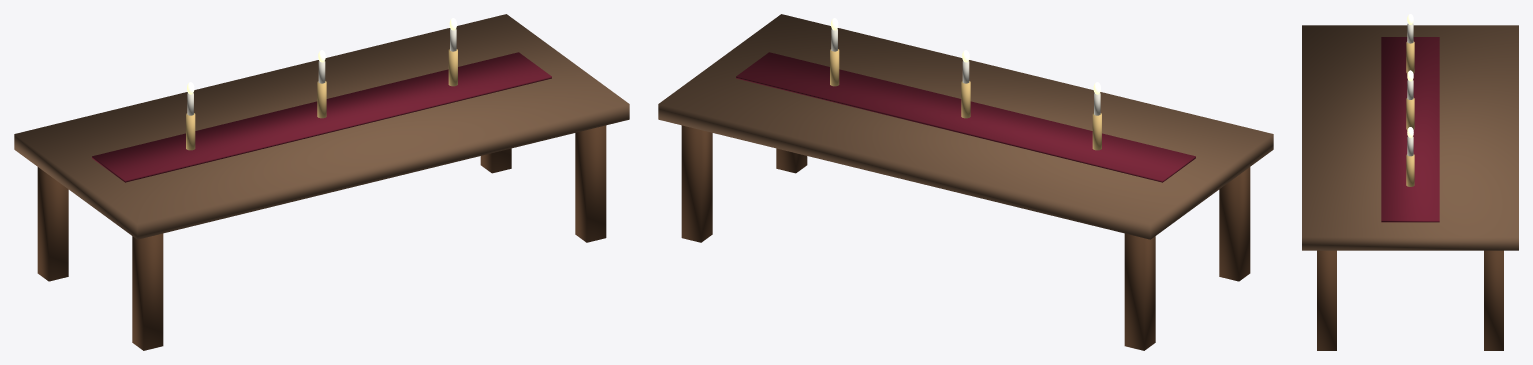
File: table.glb
3 views of the same model, side by side, from view 1: azimuth 30°, elevation 25°; view 2: azimuth 150°, elevation 25°; view 3: azimuth 270°, elevation 25° (orthographic). The views are drawn at different scales.
Parts seen in each view (by area): view 1: top, runner, leg, leg.002, leg.001, leg.003; view 2: top, runner, leg.001, leg.003, leg, leg.002; view 3: top, runner, leg.002, leg.003, stick.002, stick, stick.001.
Boxes of the visible parts, <box> form: top: <box>14,14,629,239</box>; runner: <box>92,52,551,182</box>; leg: <box>132,233,163,350</box>; leg.002: <box>575,125,606,242</box>; leg.001: <box>37,167,68,281</box>; leg.003: <box>480,148,511,173</box>; top: <box>658,14,1273,239</box>; runner: <box>736,52,1195,182</box>; leg.001: <box>1124,233,1155,350</box>; leg.003: <box>681,125,712,242</box>; leg: <box>1219,167,1250,281</box>; leg.002: <box>776,148,807,173</box>; top: <box>1302,25,1518,250</box>; runner: <box>1381,37,1439,222</box>; leg.002: <box>1317,250,1336,350</box>; leg.003: <box>1484,250,1503,350</box>; stick.002: <box>1406,154,1414,186</box>; stick: <box>1406,41,1414,73</box>; stick.001: <box>1406,98,1414,129</box>.
Size of what is drawn, in the model's own units: 3 by 1.2 by 1.3.
